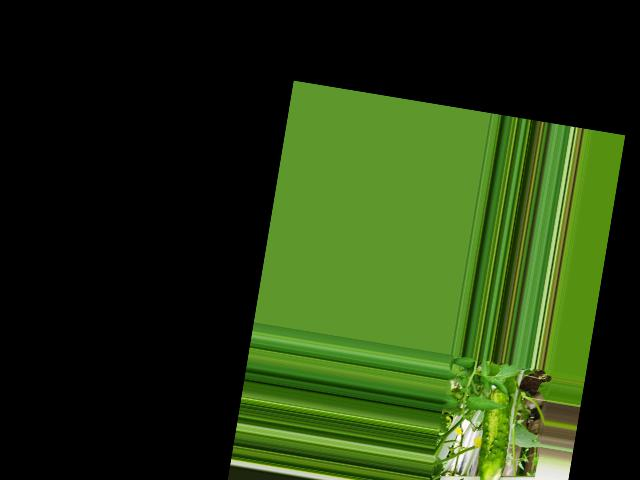cucumber: (474, 388, 517, 480)
